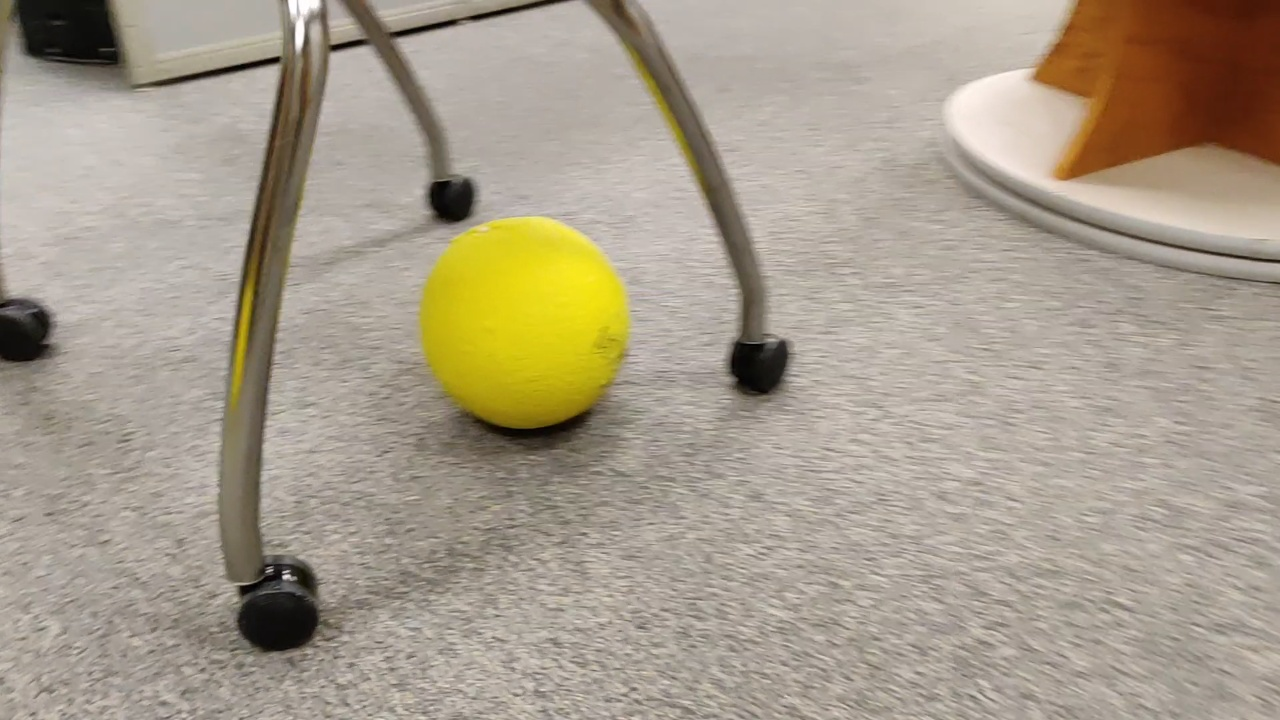Ball: (411, 217, 625, 431)
